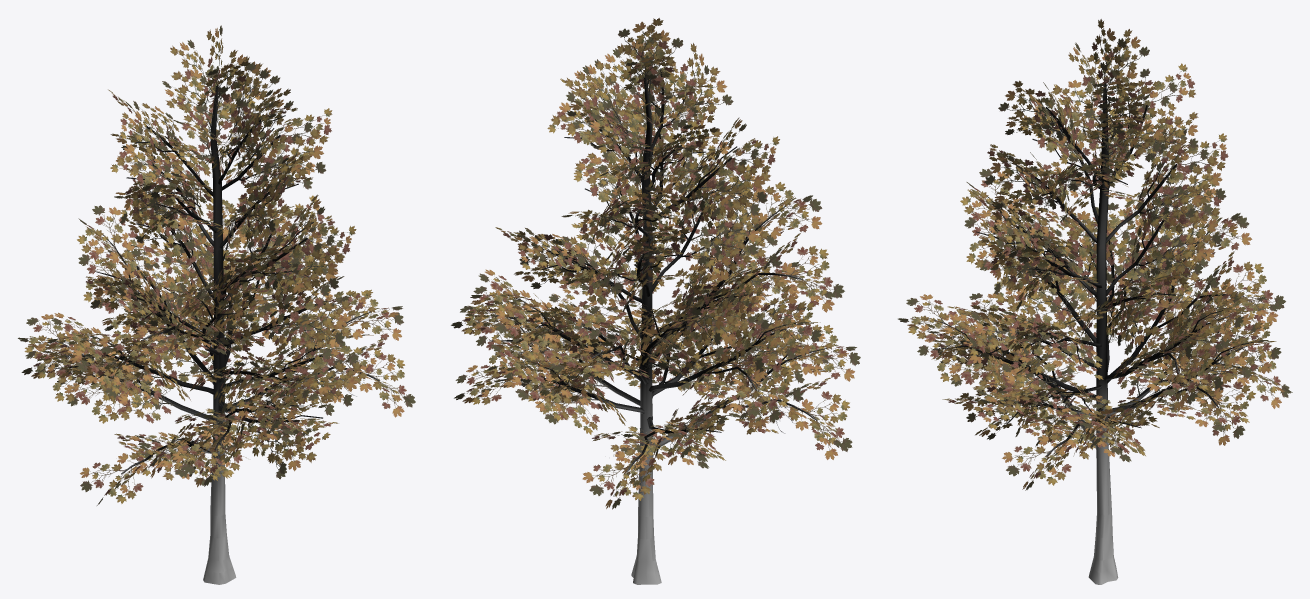
Rendered from PW_Tree_Maple_02.fbx.
The picture shows the model from 3 angles, left to right: view 1: azimuth 30°, elevation 25°; view 2: azimuth 150°, elevation 25°; view 3: azimuth 270°, elevation 25°; orthographic projection. The views are drawn at different scales.
Parts seen in each view (by area): view 1: PW_Tree_Maple_02_LOD0; view 2: PW_Tree_Maple_02_LOD0; view 3: PW_Tree_Maple_02_LOD0.
Part boxes in pixels (bbox=[...]): PW_Tree_Maple_02_LOD0: bbox=[18, 25, 415, 584]; PW_Tree_Maple_02_LOD0: bbox=[451, 18, 860, 584]; PW_Tree_Maple_02_LOD0: bbox=[898, 19, 1292, 584].
Size of what is drawn, in the model's own units: 499 by 738 by 482.
